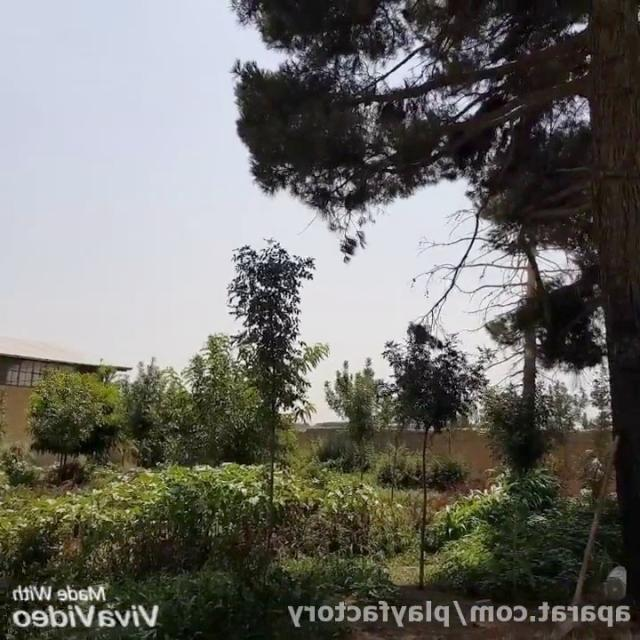drone: (258, 230, 278, 246)
